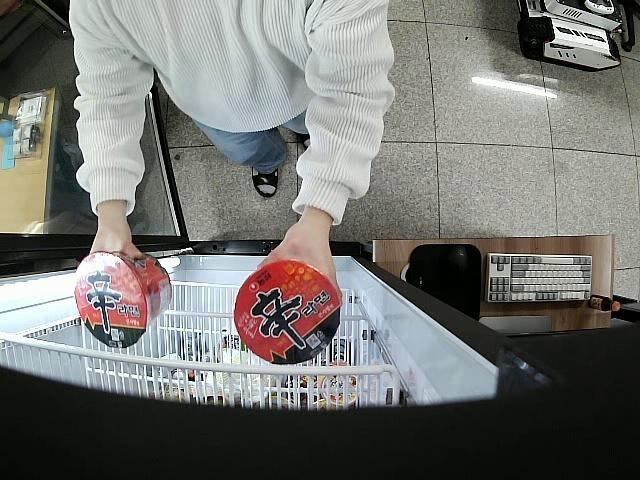01_ShinRamen_L: (232, 260, 342, 366), (73, 254, 172, 347)
